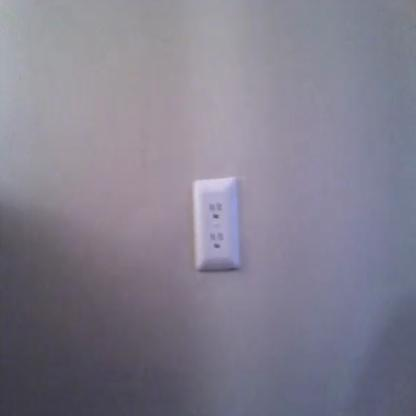OUTLET: (193, 178, 239, 268)
